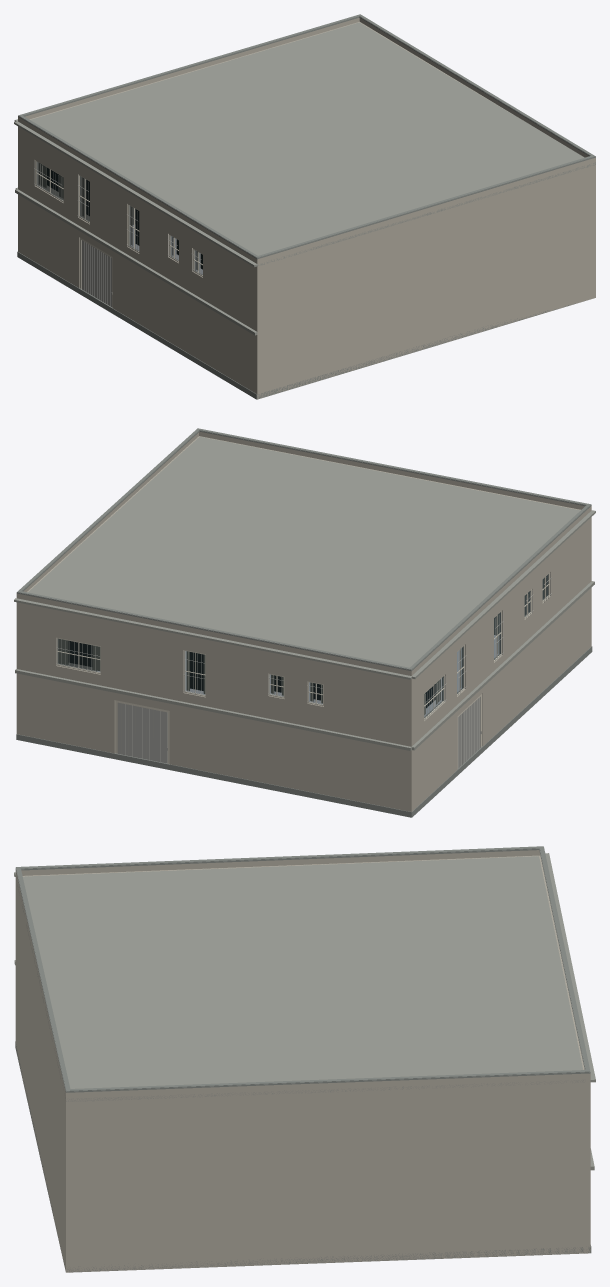
The model's file is building.glb.
The picture shows the model from 3 angles, top to bottom: view 1: azimuth 30°, elevation 25°; view 2: azimuth 150°, elevation 25°; view 3: azimuth 270°, elevation 25°; orthographic projection. The views are drawn at different scales.
Parts seen in each view (by area): view 1: roof/main:0/roof_slab#0001, main:0/edge1/z0/main:0/edge1/z0/wall_0_0/core0, main:0/edge0/z0/main:0/edge0/z0/wall_0_0/core0, roof/main:0/parapet#0001, roof/main:0/parapet_cap#0002, roof/main:0/parapet_cap#0001, main:0/edge0/z0/plinth#0001, main:0/edge0/z0/opening_u5.10_v0.05/door_leaf#0001, main:0/edge0/z0/floor_slab#0001, main:0/edge0/z0/top_cornice#0001, main:0/edge1/z0/plinth#0001, main:0/edge0/z0/opening_u1.40_v4.30/glazing#0001 (+2 smaller); view 2: roof/main:0/roof_slab#0001, main:0/edge3/z0/main:0/edge3/z0/wall_0_0/core0, main:0/edge0/z0/main:0/edge0/z0/wall_0_0/core0, roof/main:0/parapet#0001, roof/main:0/parapet_cap#0002, main:0/edge3/z0/opening_u5.00_v0.05/door_leaf#0001, main:0/edge3/z0/plinth#0001, roof/main:0/parapet_cap#0001, main:0/edge3/z0/floor_slab#0001, main:0/edge3/z0/top_cornice#0001, main:0/edge0/z0/top_cornice#0001, main:0/edge0/z0/floor_slab#0001 (+7 smaller); view 3: roof/main:0/roof_slab#0001, main:0/edge2/z0/main:0/edge2/z0/wall_0_0/clip0, main:0/edge1/z0/main:0/edge1/z0/wall_0_0/core0, roof/main:0/parapet#0001, roof/main:0/parapet_cap#0002, roof/main:0/parapet_cap#0001, main:0/edge2/z0/plinth#0001, main:0/edge3/z0/top_cornice#0001, main:0/edge3/z0/main:0/edge3/z0/wall_0_0/clip1, main:0/edge0/z0/main:0/edge0/z0/wall_0_0/core0.
Part boxes in pixels (x1,y1,x2,y2): roof/main:0/roof_slab#0001: (30, 22, 595, 266); main:0/edge1/z0/main:0/edge1/z0/wall_0_0/core0: (257, 162, 595, 398); main:0/edge0/z0/main:0/edge0/z0/wall_0_0/core0: (18, 127, 257, 393); roof/main:0/parapet#0001: (18, 17, 595, 263); roof/main:0/parapet_cap#0002: (18, 14, 595, 257); roof/main:0/parapet_cap#0001: (18, 16, 595, 259); main:0/edge0/z0/plinth#0001: (17, 251, 257, 399); main:0/edge0/z0/opening_u5.10_v0.05/door_leaf#0001: (82, 240, 111, 306); main:0/edge0/z0/floor_slab#0001: (15, 189, 257, 335); main:0/edge0/z0/top_cornice#0001: (14, 121, 257, 267); main:0/edge1/z0/plinth#0001: (257, 301, 584, 398); main:0/edge0/z0/opening_u1.40_v4.30/glazing#0001: (36, 162, 63, 200); roof/main:0/roof_slab#0001: (28, 436, 580, 667); main:0/edge3/z0/main:0/edge3/z0/wall_0_0/core0: (20, 603, 410, 811); main:0/edge0/z0/main:0/edge0/z0/wall_0_0/core0: (413, 519, 589, 809); roof/main:0/parapet#0001: (16, 432, 591, 675); roof/main:0/parapet_cap#0002: (17, 428, 590, 669); main:0/edge3/z0/opening_u5.00_v0.05/door_leaf#0001: (118, 702, 167, 763); main:0/edge3/z0/plinth#0001: (16, 734, 411, 817); roof/main:0/parapet_cap#0001: (16, 430, 591, 671); main:0/edge3/z0/floor_slab#0001: (15, 669, 411, 750); main:0/edge3/z0/top_cornice#0001: (14, 598, 411, 679); main:0/edge0/z0/top_cornice#0001: (411, 510, 595, 678); main:0/edge0/z0/floor_slab#0001: (412, 581, 594, 750); roof/main:0/roof_slab#0001: (15, 855, 584, 1101); main:0/edge2/z0/main:0/edge2/z0/wall_0_0/clip0: (66, 1079, 590, 1272); main:0/edge1/z0/main:0/edge1/z0/wall_0_0/core0: (15, 878, 65, 1271); roof/main:0/parapet#0001: (15, 850, 590, 1098); roof/main:0/parapet_cap#0002: (16, 846, 589, 1091); roof/main:0/parapet_cap#0001: (15, 848, 590, 1092); main:0/edge2/z0/plinth#0001: (66, 1247, 590, 1272); main:0/edge3/z0/top_cornice#0001: (545, 853, 595, 1082); main:0/edge3/z0/main:0/edge3/z0/wall_0_0/clip1: (585, 1079, 590, 1253); main:0/edge0/z0/main:0/edge0/z0/wall_0_0/core0: (22, 855, 538, 876).
Size of the model in its own units: 21.97 by 7.52 by 21.84.
